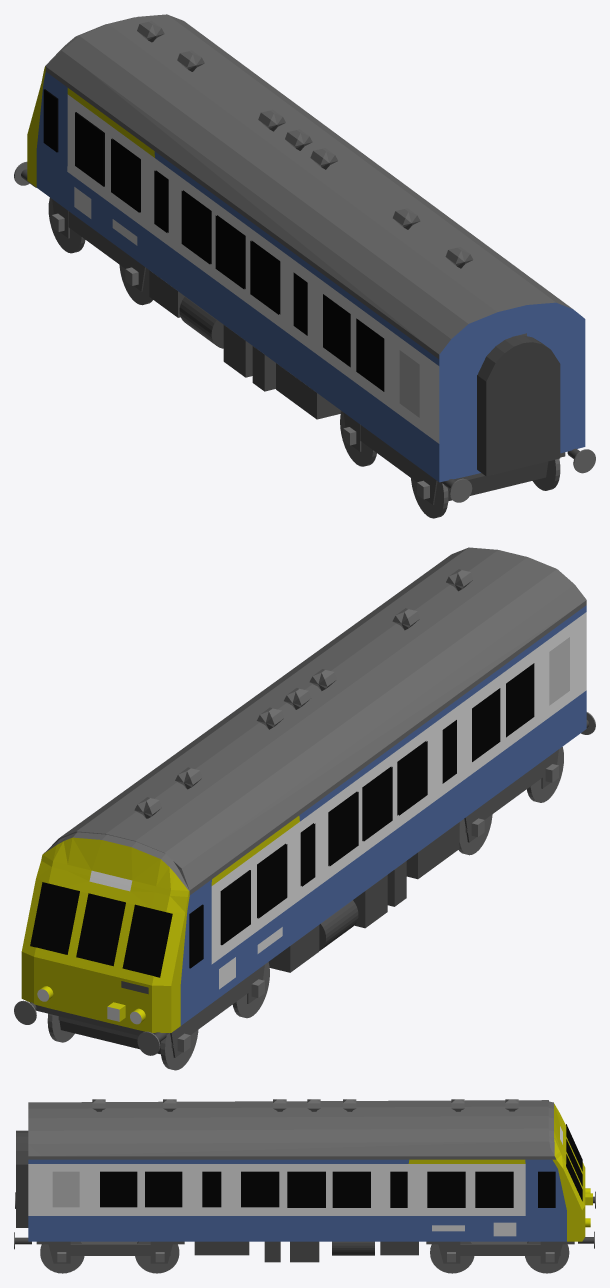
File: BR-101-dtcl-bg.dae
3 renders of one model, top to bottom at view 1: azimuth 30°, elevation 25°; view 2: azimuth 150°, elevation 25°; view 3: azimuth 270°, elevation 25°, orthographic. The views are drawn at different scales.
Visible parts, largest first — view 1: BR-cl101-front_rear, Cube, Cube_060_001, Cube_001, Cube_043, Cube_043_001, Cylinder_002, Cube_003, Cube_004, Cube_002, Cylinder_011_001; view 2: BR-cl101-front_rear, Cube_043, Cube_001, Cube_043_001, Cube_004, Cube_003, Cube_061, Cylinder_002, Cylinder_010, Cube_002; view 3: BR-cl101-front_rear, Cube_043, Cube_043_001, Cube, Cube_001, Cube_003, Cylinder_008_001, Cylinder_003, Cylinder_008, Cylinder_009_001, Cylinder_009, Cube_004 (+6 smaller).
Boxes of the visible parts, bbox=[...] form: BR-cl101-front_rear: bbox=[27, 14, 585, 482]; Cube: bbox=[477, 335, 560, 476]; Cube_060_001: bbox=[425, 452, 565, 504]; Cube_001: bbox=[276, 363, 341, 419]; Cube_043: bbox=[53, 211, 142, 281]; Cube_043_001: bbox=[360, 425, 433, 494]; Cylinder_002: bbox=[179, 296, 223, 348]; Cube_003: bbox=[223, 325, 252, 377]; Cube_004: bbox=[149, 270, 184, 317]; Cube_002: bbox=[252, 346, 275, 391]; Cylinder_011_001: bbox=[411, 478, 448, 518]; BR-cl101-front_rear: bbox=[21, 547, 586, 1035]; Cube_043: bbox=[58, 967, 262, 1047]; Cube_001: bbox=[406, 822, 459, 879]; Cube_043_001: bbox=[465, 751, 556, 832]; Cube_004: bbox=[268, 925, 319, 972]; Cube_003: bbox=[353, 875, 387, 928]; Cube_061: bbox=[59, 1020, 187, 1057]; Cylinder_002: bbox=[319, 900, 358, 950]; Cylinder_010: bbox=[160, 1030, 198, 1070]; Cube_002: bbox=[387, 861, 406, 906]; BR-cl101-front_rear: bbox=[28, 1099, 585, 1241]; Cube_043: bbox=[460, 1241, 560, 1255]; Cube_043_001: bbox=[70, 1241, 170, 1255]; Cube: bbox=[16, 1130, 28, 1227]; Cube_001: bbox=[194, 1241, 249, 1255]; Cube_003: bbox=[290, 1241, 319, 1262]; Cylinder_008_001: bbox=[40, 1241, 84, 1273]; Cylinder_003: bbox=[332, 1241, 374, 1255]; Cylinder_008: bbox=[430, 1241, 474, 1273]; Cylinder_009_001: bbox=[135, 1241, 179, 1273]; Cylinder_009: bbox=[525, 1241, 569, 1273]; Cube_004: bbox=[380, 1241, 418, 1255].
Size of the model in its own units: 2.04 by 10.32 by 3.05.
